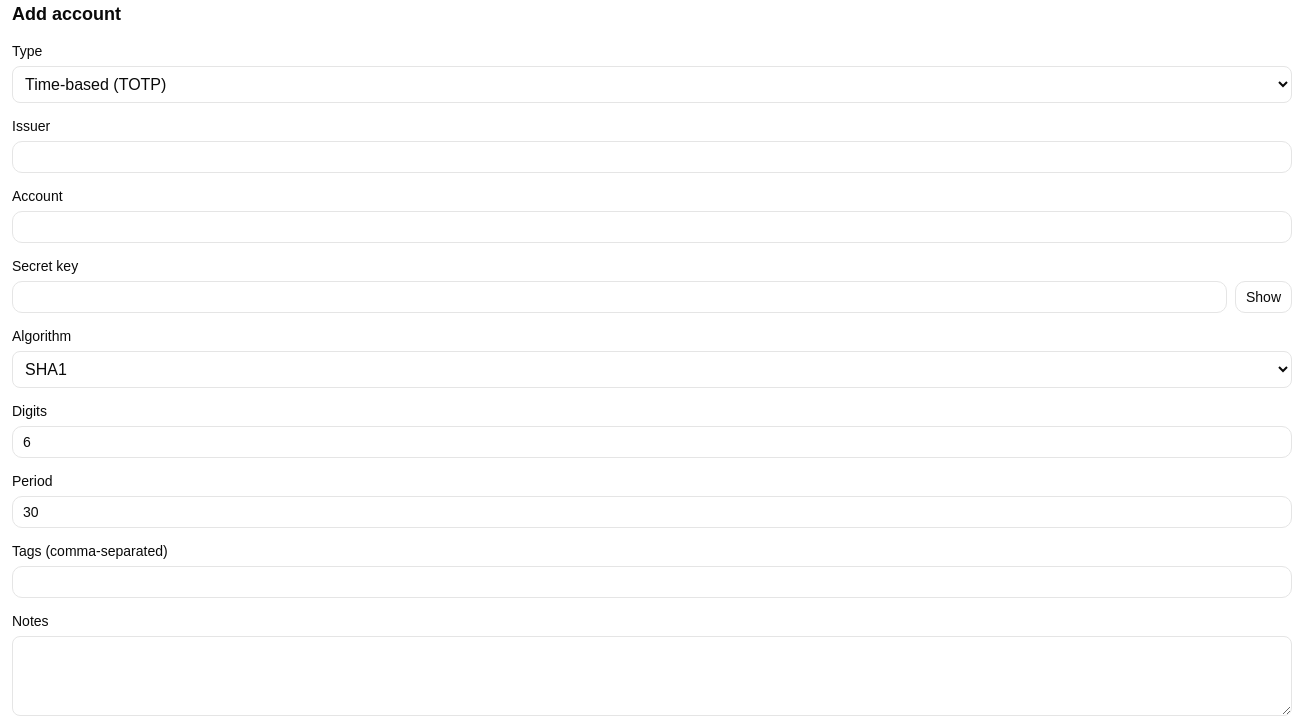
it: adding an account › generates the parameter fields from the chosen type
The image size is (1304, 720).
Expected: the field labelled "Issuer" is shown, [12, 141, 1292, 173]
Expected: the number field labelled "Period" holds "30", [12, 496, 1292, 528]
Select "Steam Guard" in the dropdown labelled "Type" at [652, 84], box [12, 66, 1292, 103]
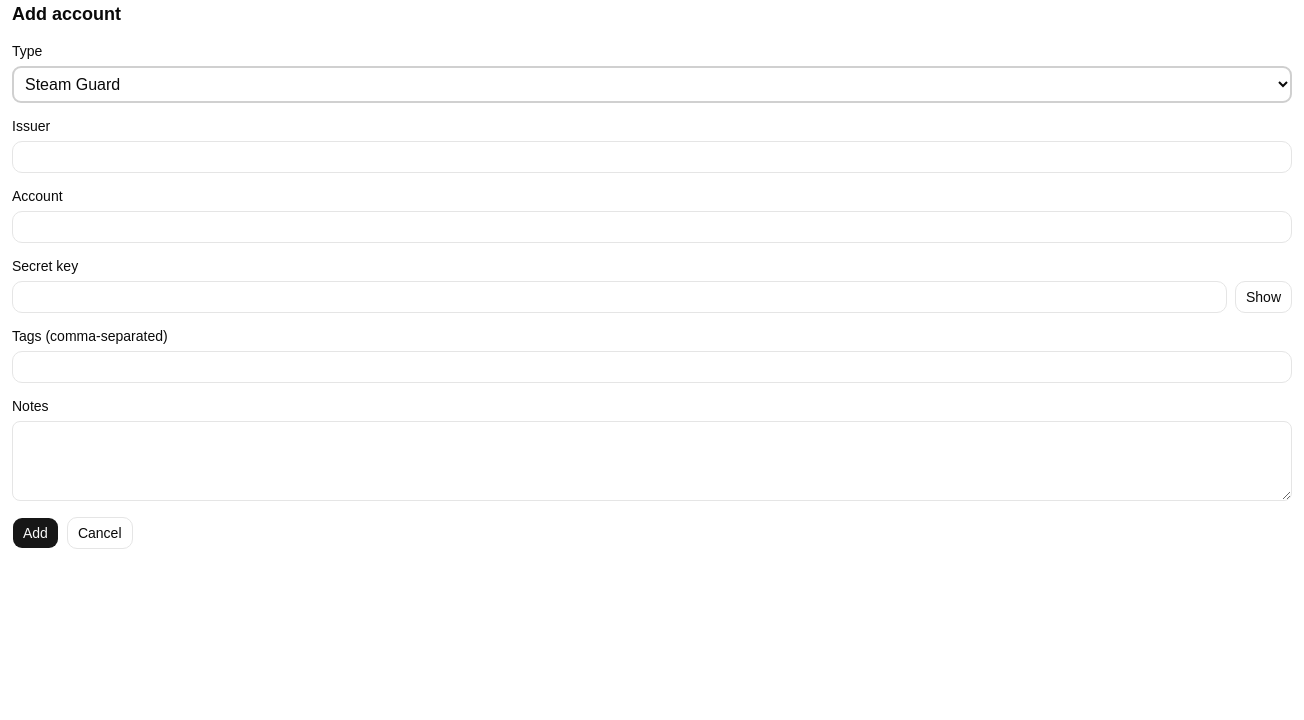
Now the label labelled "Period" is gone
Select "Counter-based (HOTP)" in the dropdown labelled "Type" at [652, 84], box [12, 66, 1292, 103]
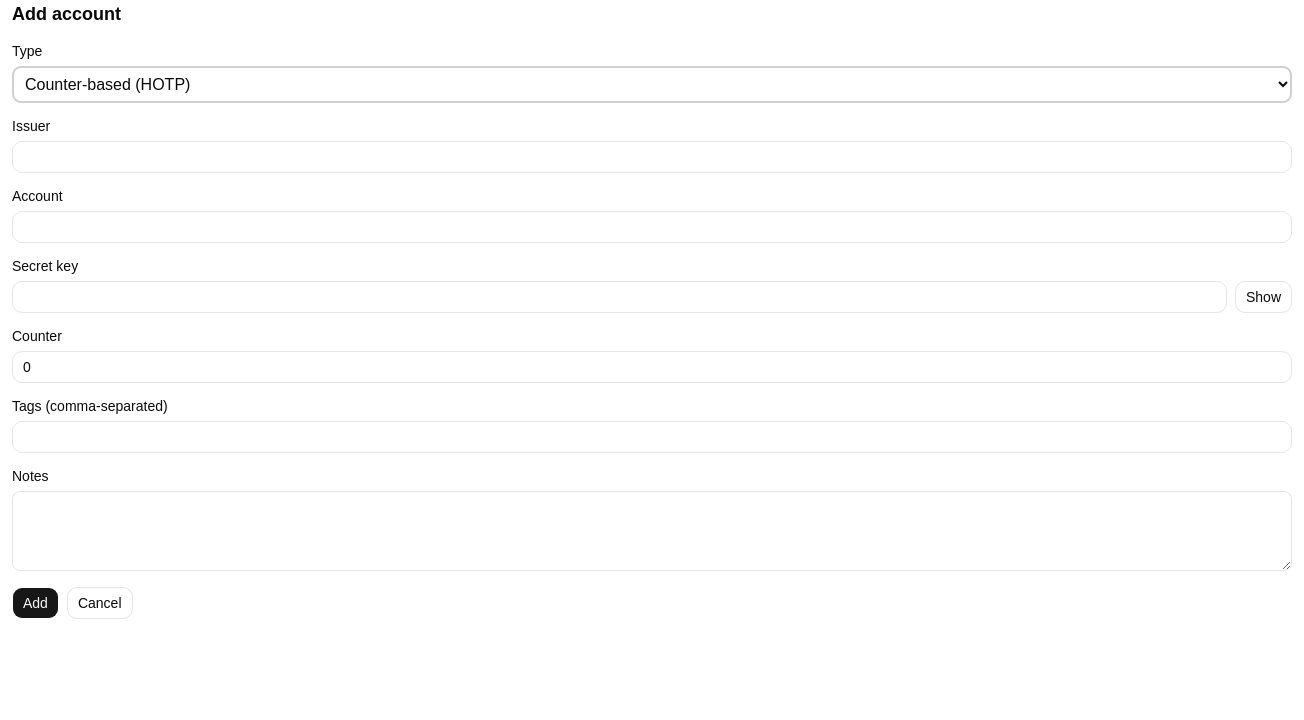
Expected: the label labelled "Digits" is not shown
Now the number field labelled "Counter" holds "0", box [12, 351, 1292, 383]
